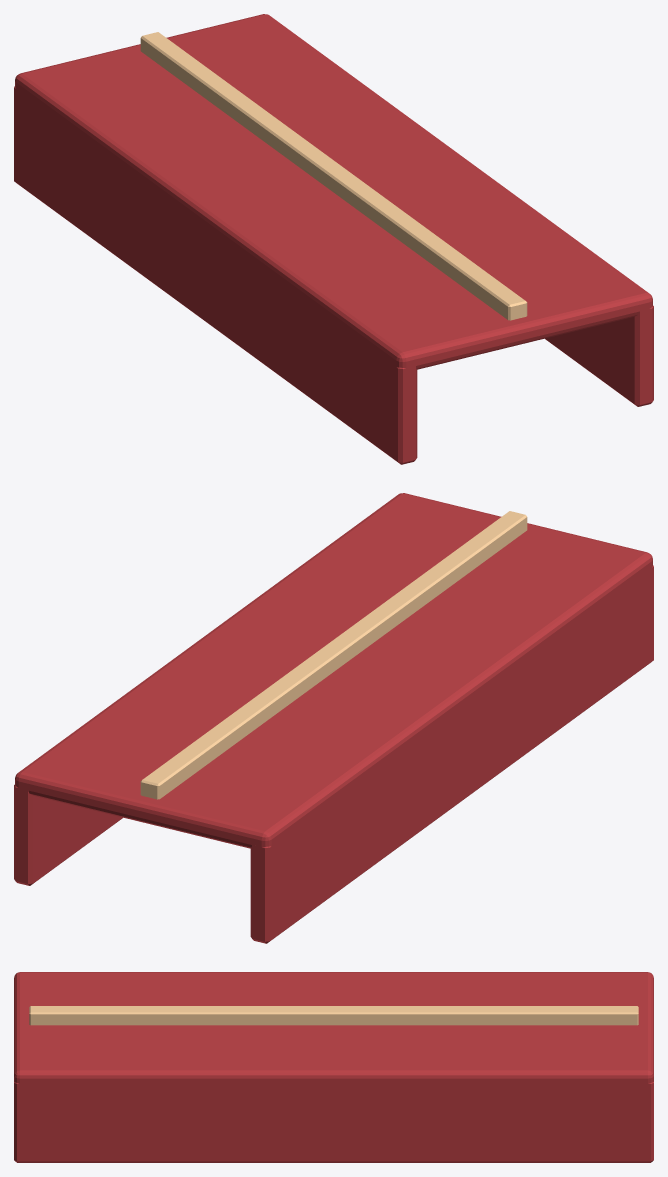
File: boat_upturned.glb
3 views of the same model, one above another, from view 1: azimuth 30°, elevation 25°; view 2: azimuth 150°, elevation 25°; view 3: azimuth 270°, elevation 25° (orthographic). The views are drawn at different scales.
Visible parts, largest first — view 1: boat_upturned, boat_upturned_side_l, boat_upturned_keel, boat_upturned_side_r; view 2: boat_upturned, boat_upturned_side_l, boat_upturned_keel, boat_upturned_side_r; view 3: boat_upturned, boat_upturned_side_r, boat_upturned_keel.
Part boxes in pixels (x1,y1,x2,y2): boat_upturned: [15, 14, 652, 369]; boat_upturned_side_l: [14, 86, 417, 464]; boat_upturned_keel: [140, 32, 527, 320]; boat_upturned_side_r: [545, 305, 653, 406]; boat_upturned: [15, 493, 652, 848]; boat_upturned_side_l: [250, 565, 653, 943]; boat_upturned_keel: [140, 511, 527, 799]; boat_upturned_side_r: [14, 784, 122, 885]; boat_upturned: [14, 972, 653, 1083]; boat_upturned_side_r: [14, 1082, 653, 1162]; boat_upturned_keel: [29, 1006, 638, 1025].
Bounding box in the file's own units: 1.6 × 0.75 × 4.2.
